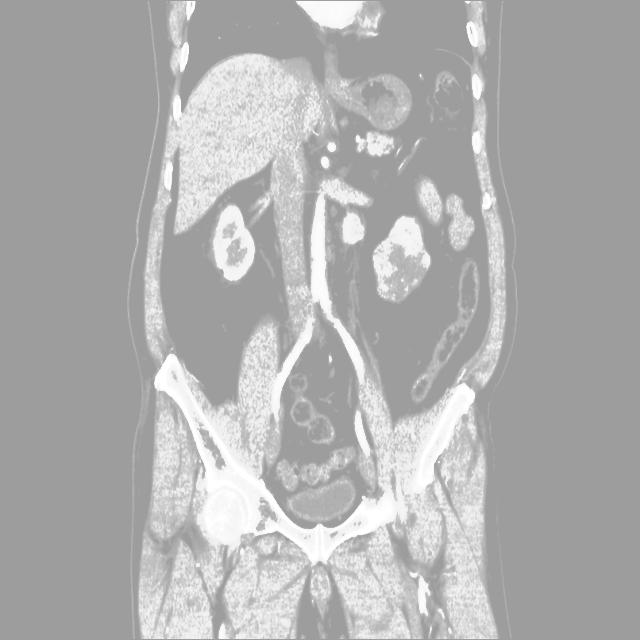TUMOR: (172, 169, 474, 331)
